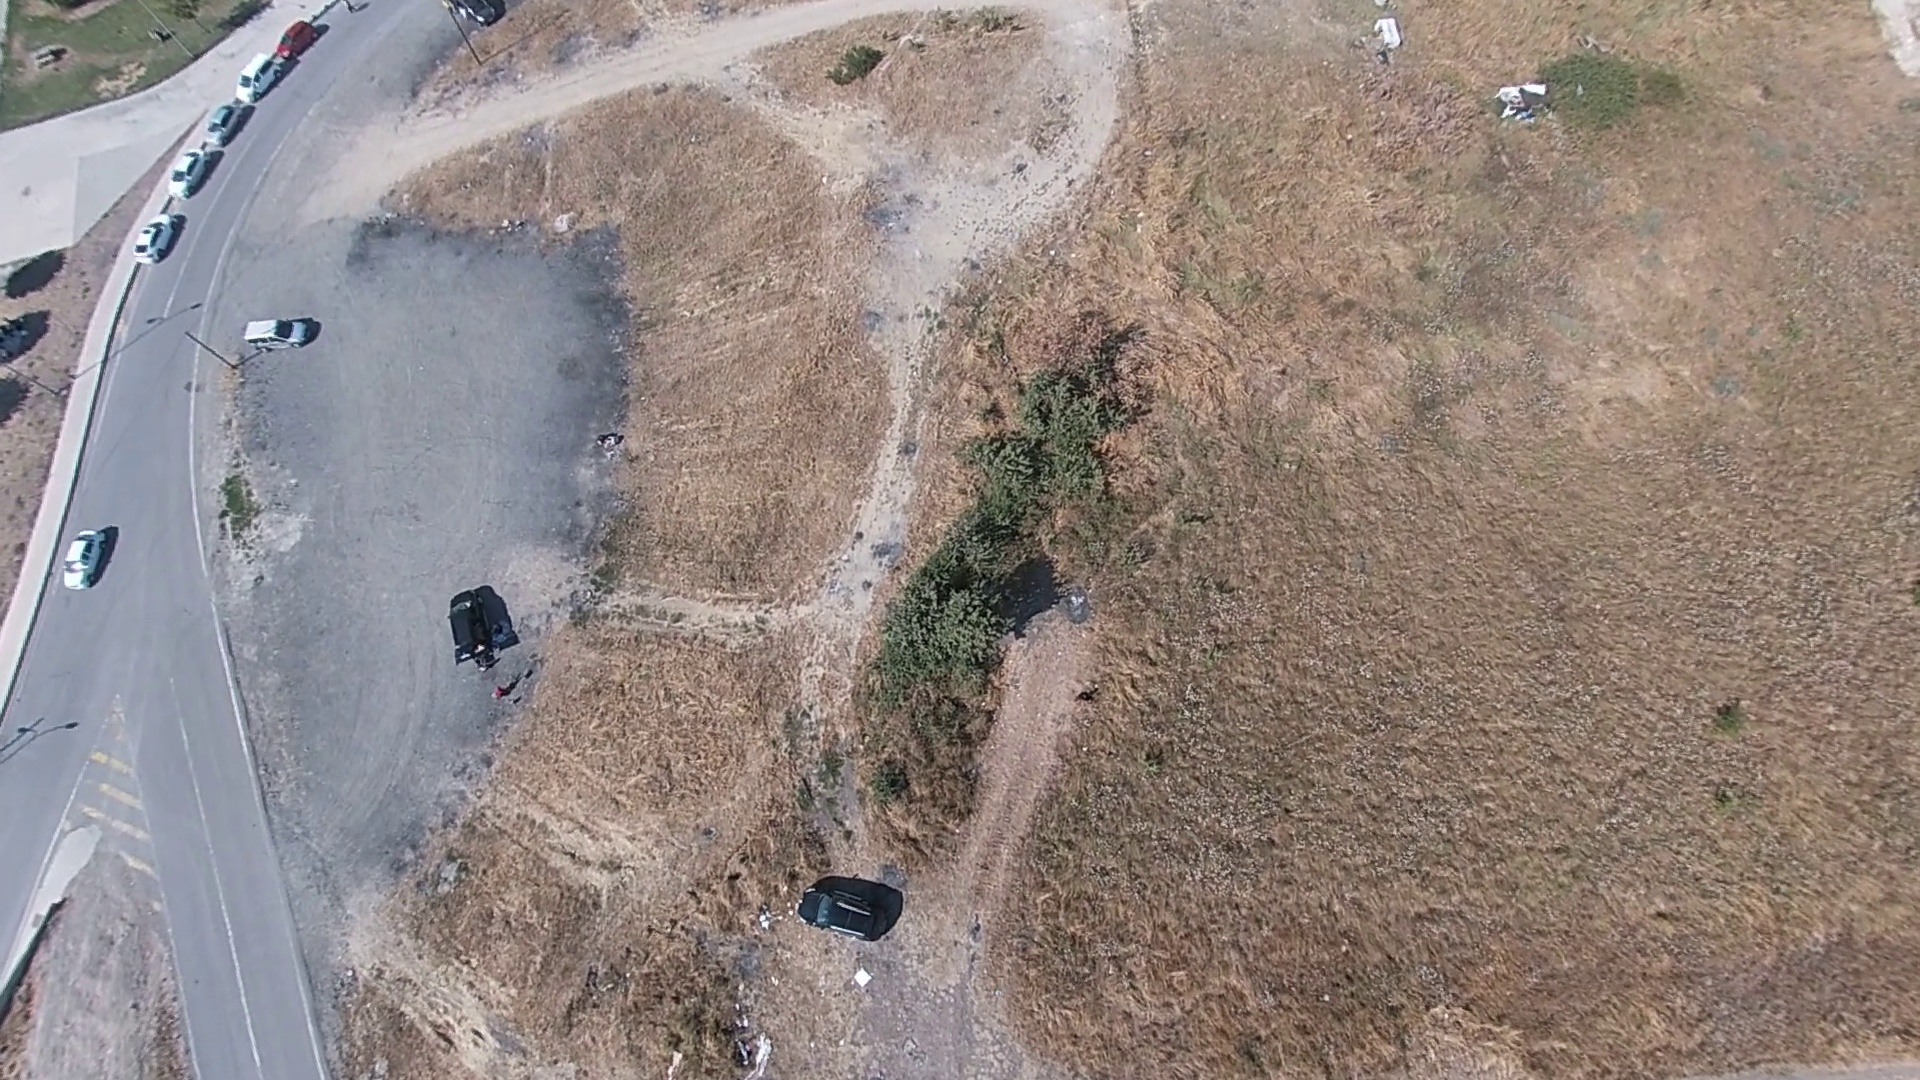araba: (790, 874, 891, 943), (451, 585, 521, 662), (58, 520, 117, 597), (228, 44, 295, 105), (236, 309, 320, 353), (200, 95, 251, 148), (170, 141, 214, 198), (135, 208, 177, 262), (284, 17, 327, 61)
